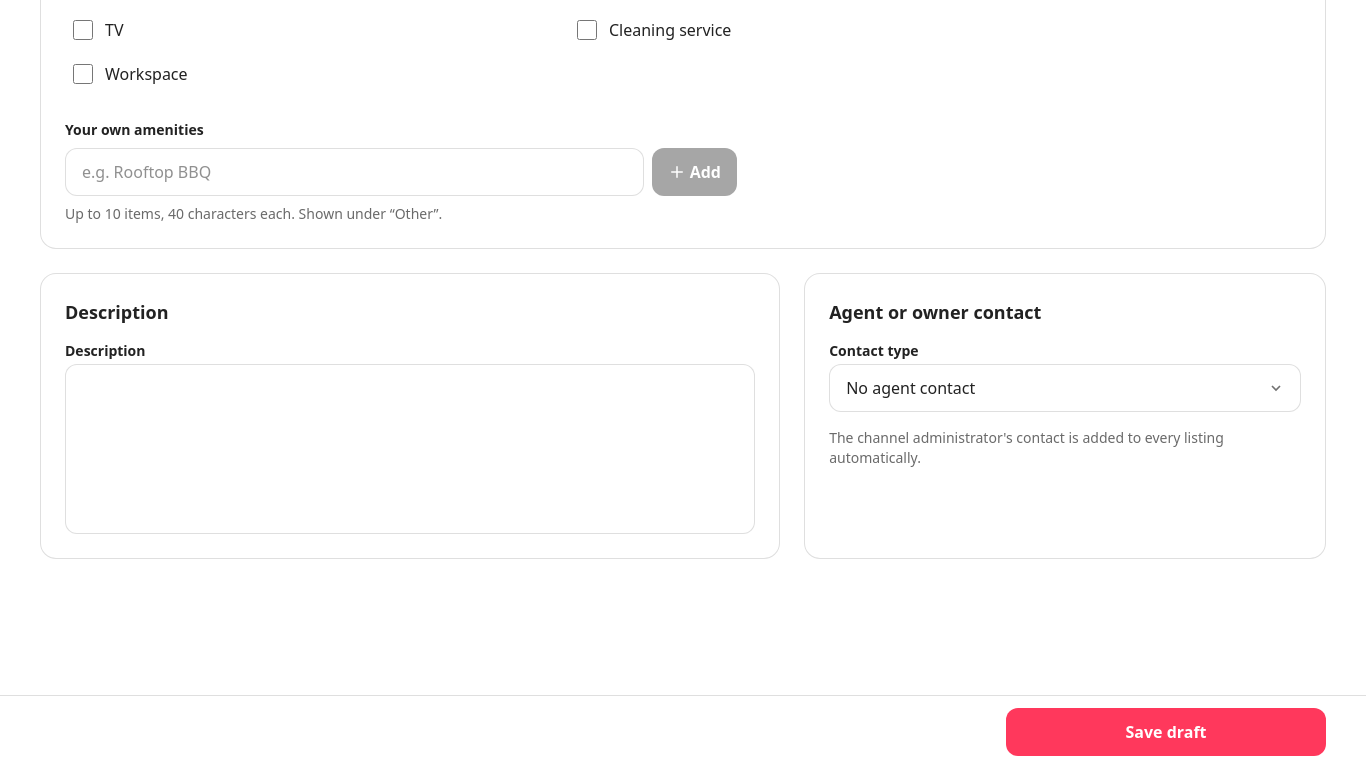
it: listing form › validates fields before sending
The width and height of the screenshot is (1366, 768).
(page scrolled)
Select "Telegram username" in the dropdown labelled "Contact type" at (1065, 388), box [829,364,1301,412]
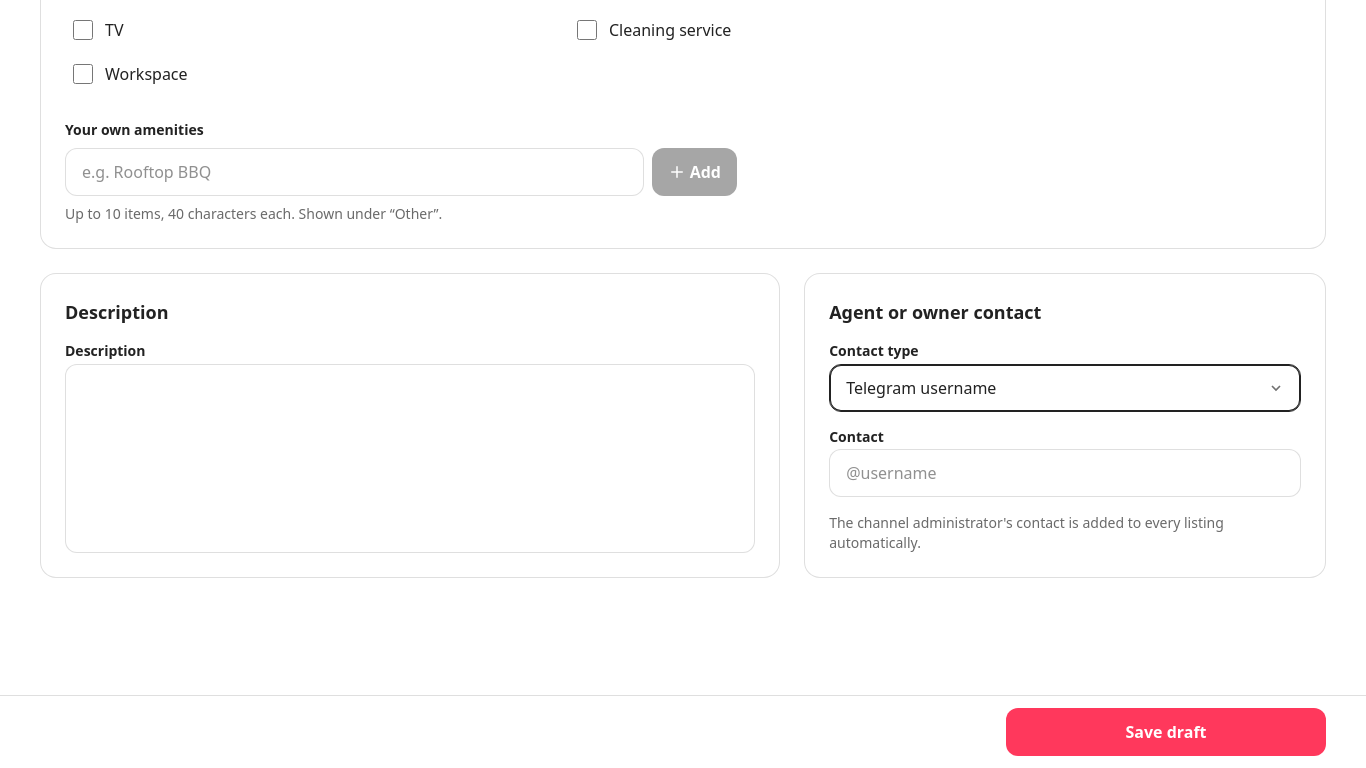
Type "no spaces allowed" into the field labelled "Contact" at (1065, 473), box [829,449,1301,497]
(page scrolled)
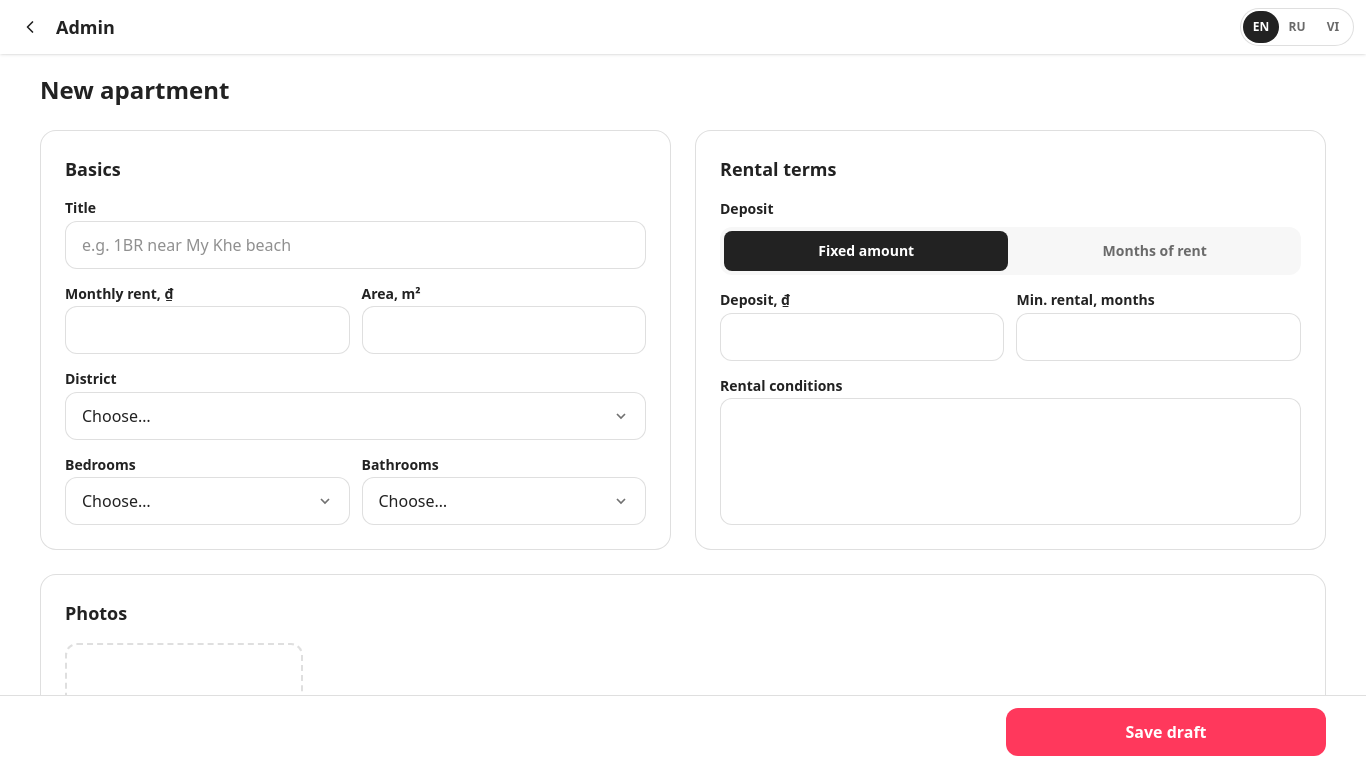
Type "45.25" into the field labelled "Area, m²" at (504, 330), box [362,306,646,354]
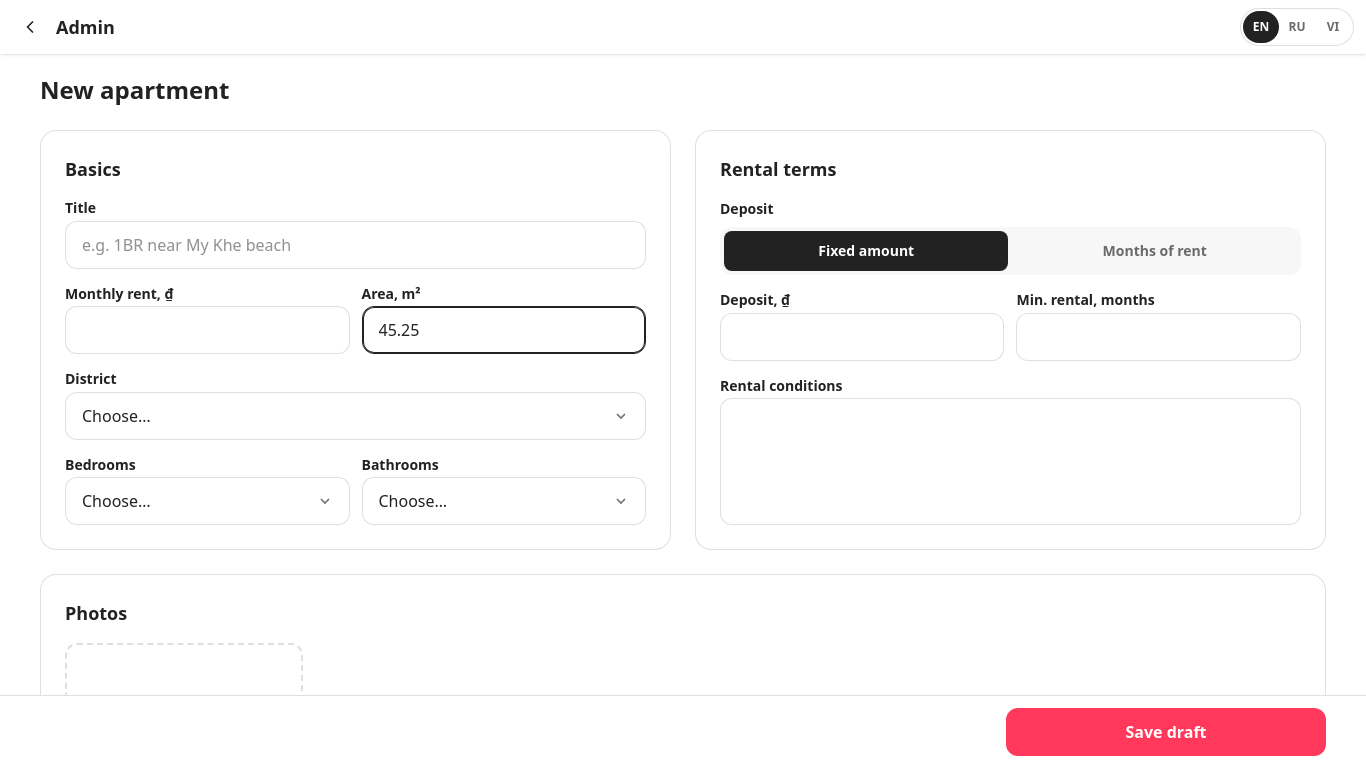
Click the button "Save draft" at (1166, 732), box [1006,708,1326,756]
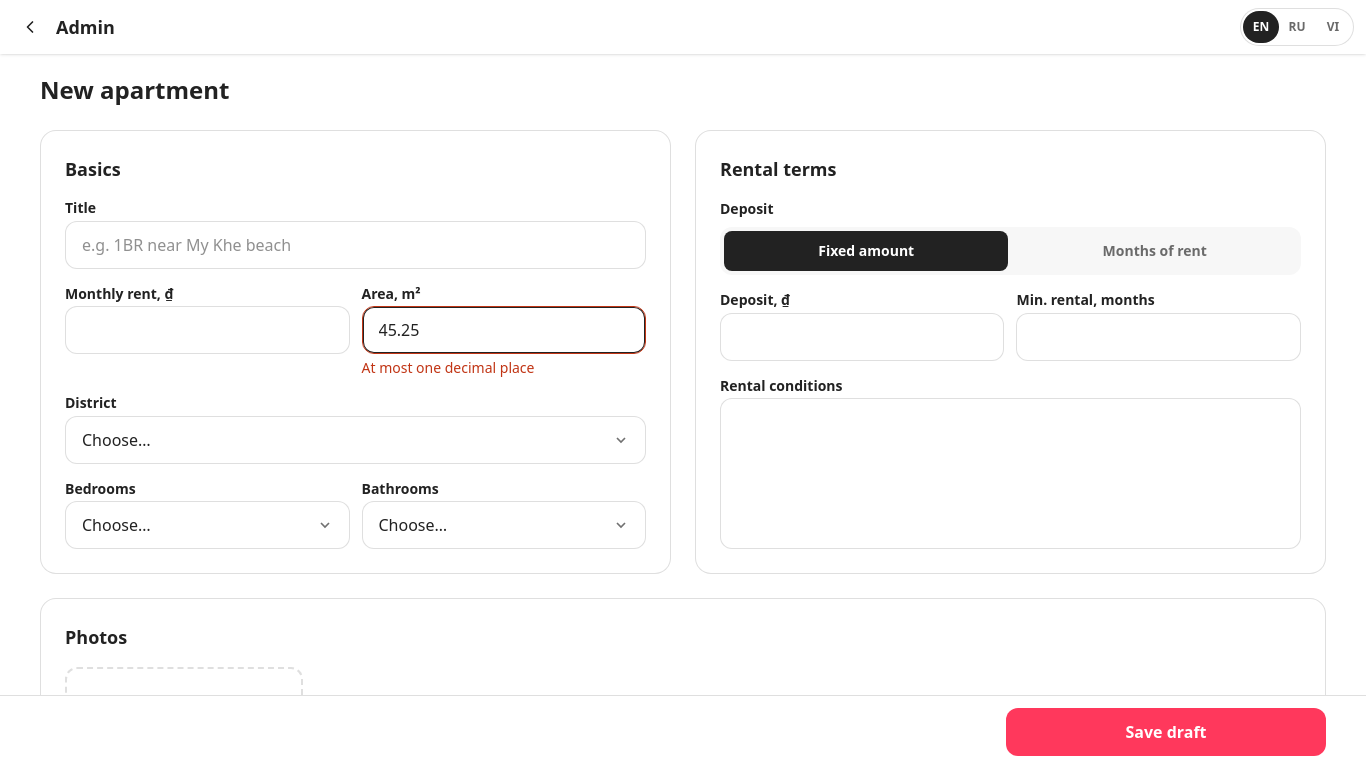
Expected: the text "At most one decimal place" is shown, [362,358,534,377]
